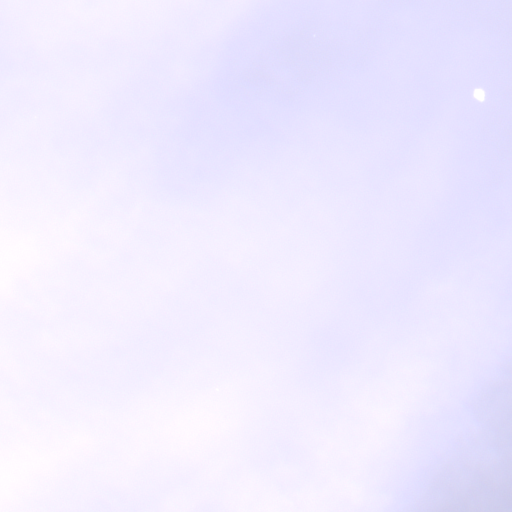Iceberg: (473, 89, 484, 101)
